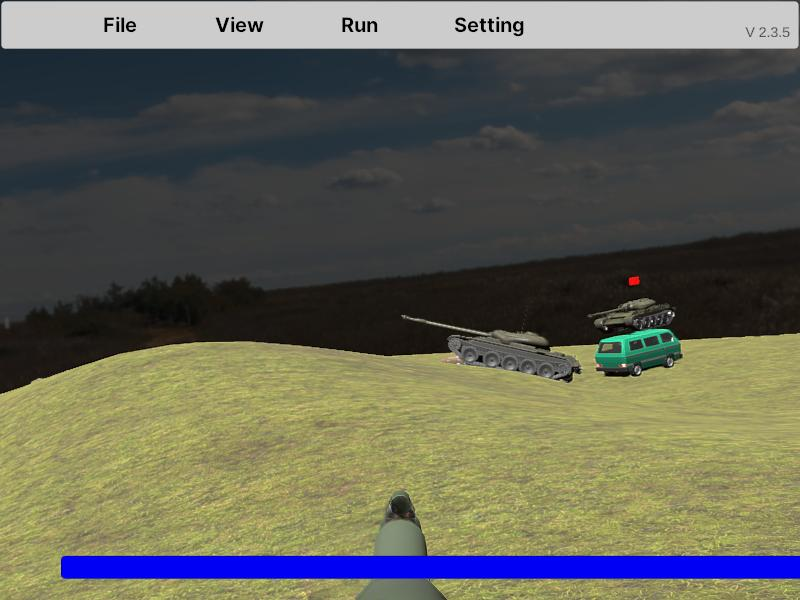Tank: (401, 315, 583, 385), (586, 296, 676, 331)
car: (595, 329, 682, 378)
